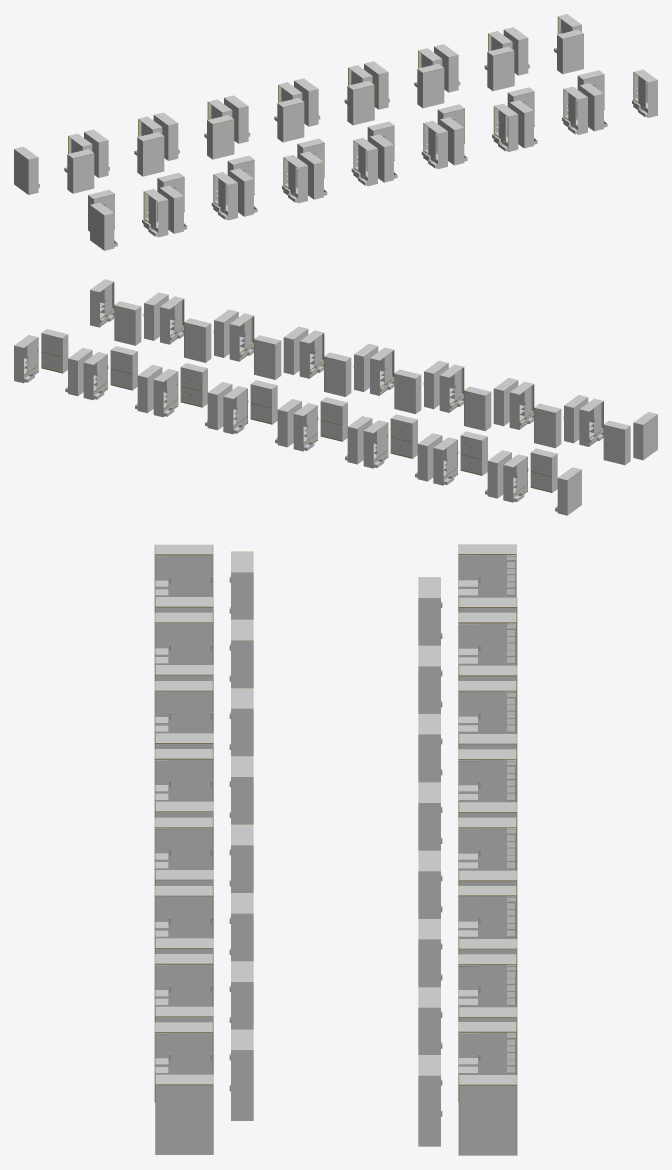
File: Closet.fbx
3 renders of one model, top to bottom at view 1: azimuth 30°, elevation 25°; view 2: azimuth 150°, elevation 25°; view 3: azimuth 270°, elevation 25°, orthographic. The views are drawn at different scales.
Parts seen in each view (by area): view 1: 06_CLOSET; view 2: 06_CLOSET; view 3: 06_CLOSET.
Boxes of the visible parts, x1,y1,x2,y2 form: 06_CLOSET: (14,14,657,250); 06_CLOSET: (14,279,657,515); 06_CLOSET: (154,544,517,1155).
Bounding box in the file's own units: 75.49 × 4.67 × 21.41.
